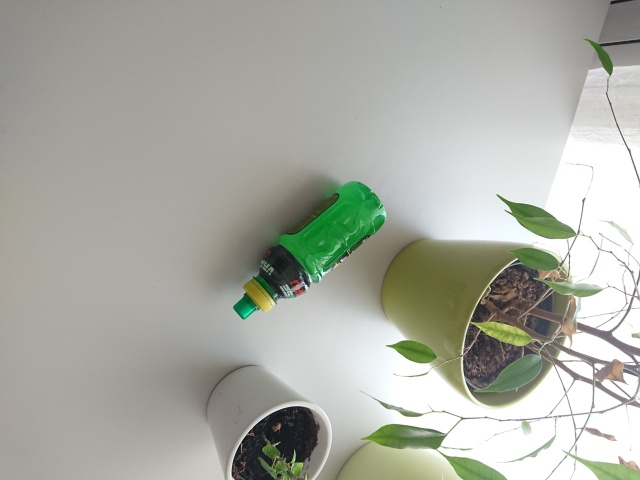Vindi Iso Sport Lemon-Grapefruit 500mL: (230, 178, 389, 322)
